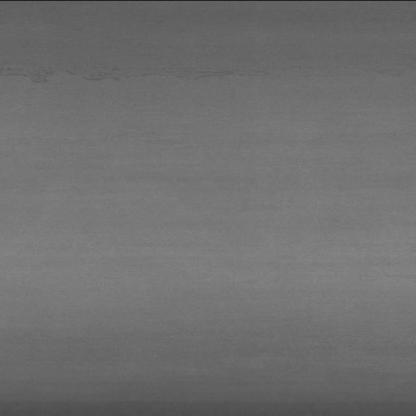silk_spot: (30, 51, 322, 95)
